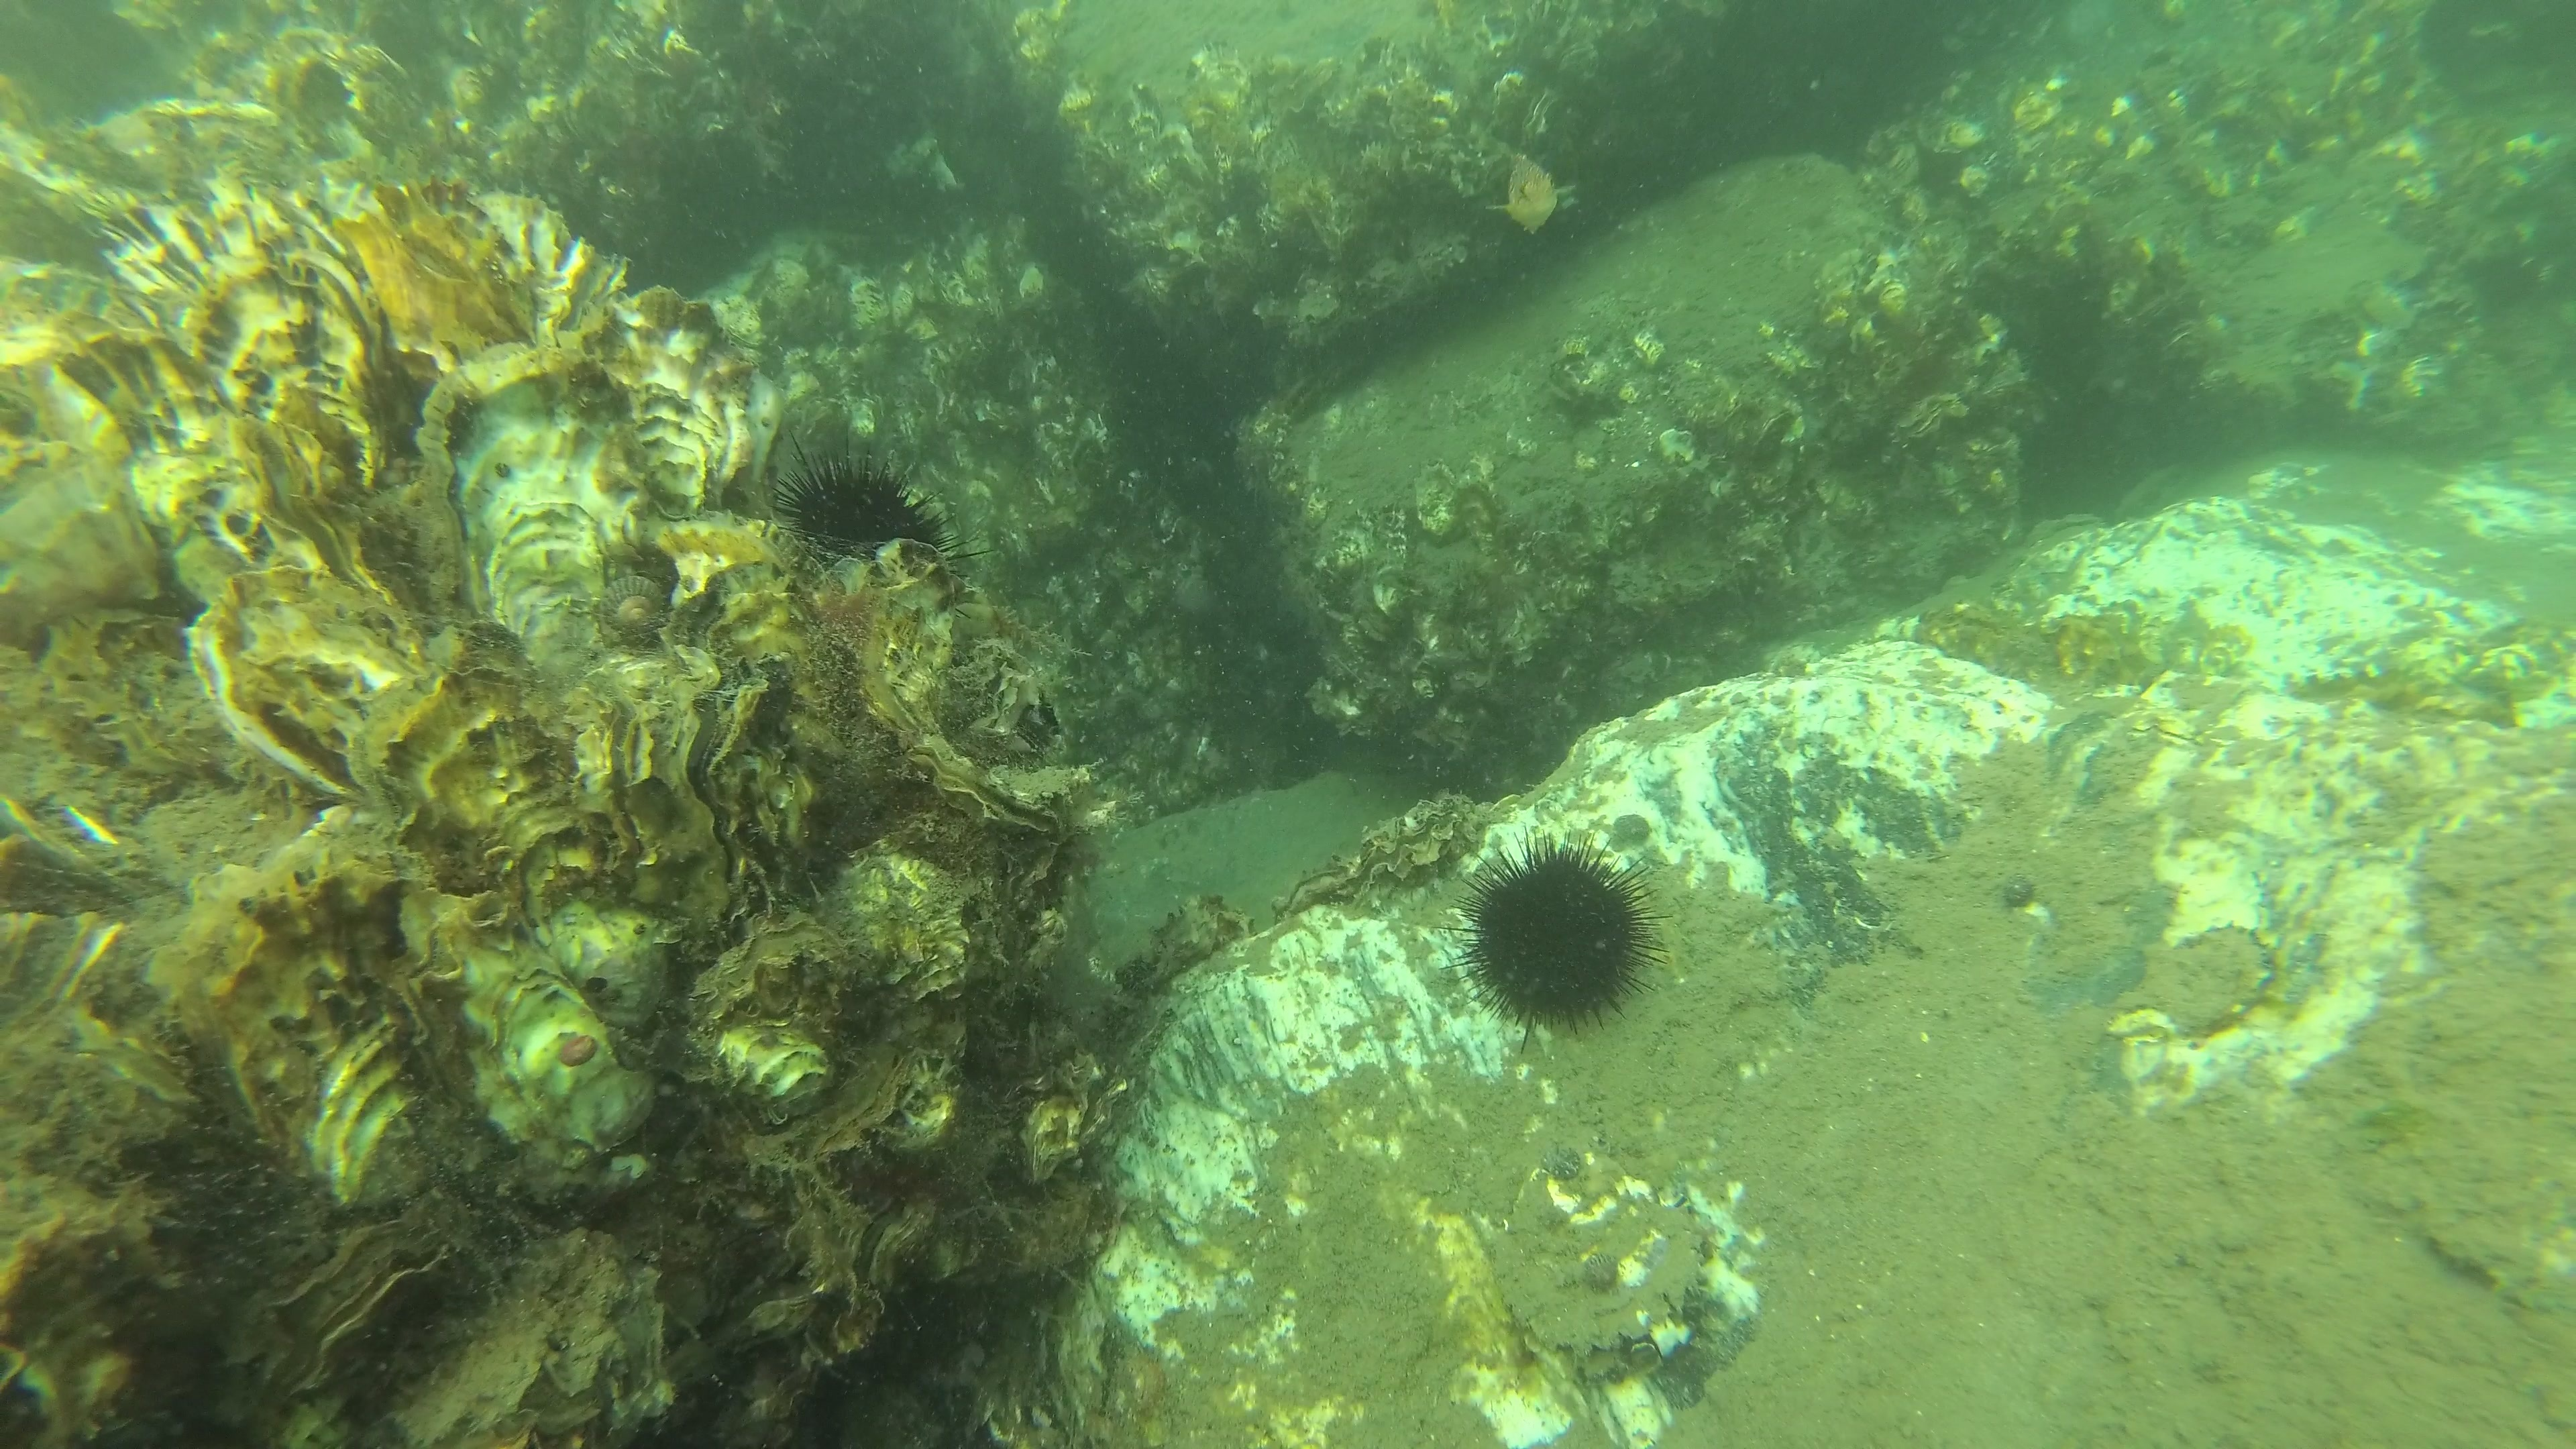echinus: (1456, 835, 1670, 1053), (773, 441, 989, 577), (2470, 253, 2548, 320)
